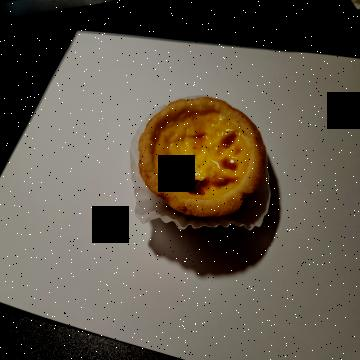EggTart: (138, 98, 267, 219)
